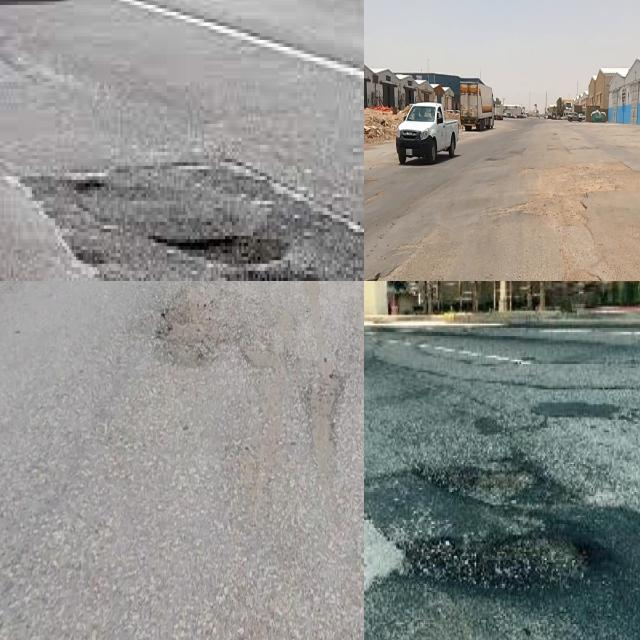Pothole: (401, 535, 590, 597), (410, 457, 579, 511), (151, 236, 324, 281), (154, 282, 238, 366), (303, 357, 348, 494), (58, 169, 109, 190)
